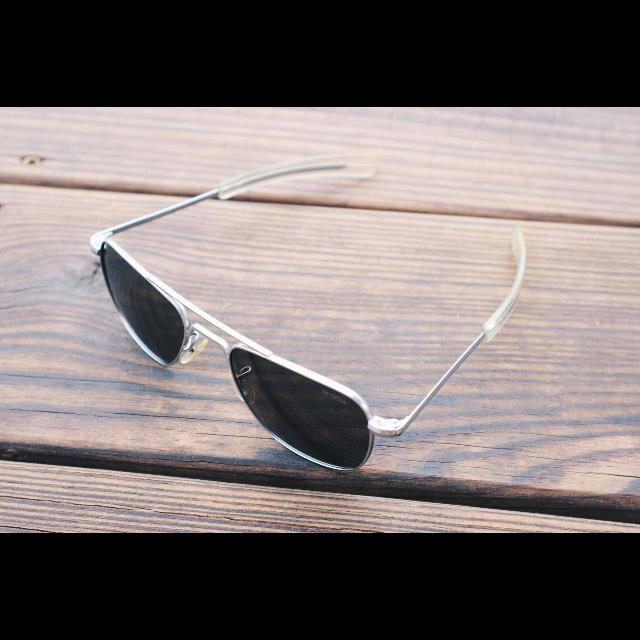Sunglasses: (90, 155, 526, 471)
